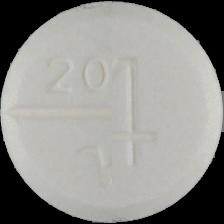55289-916: (0, 0, 224, 224)
